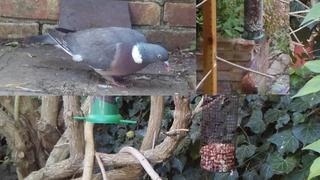wood pigeon: (27, 27, 170, 89)
